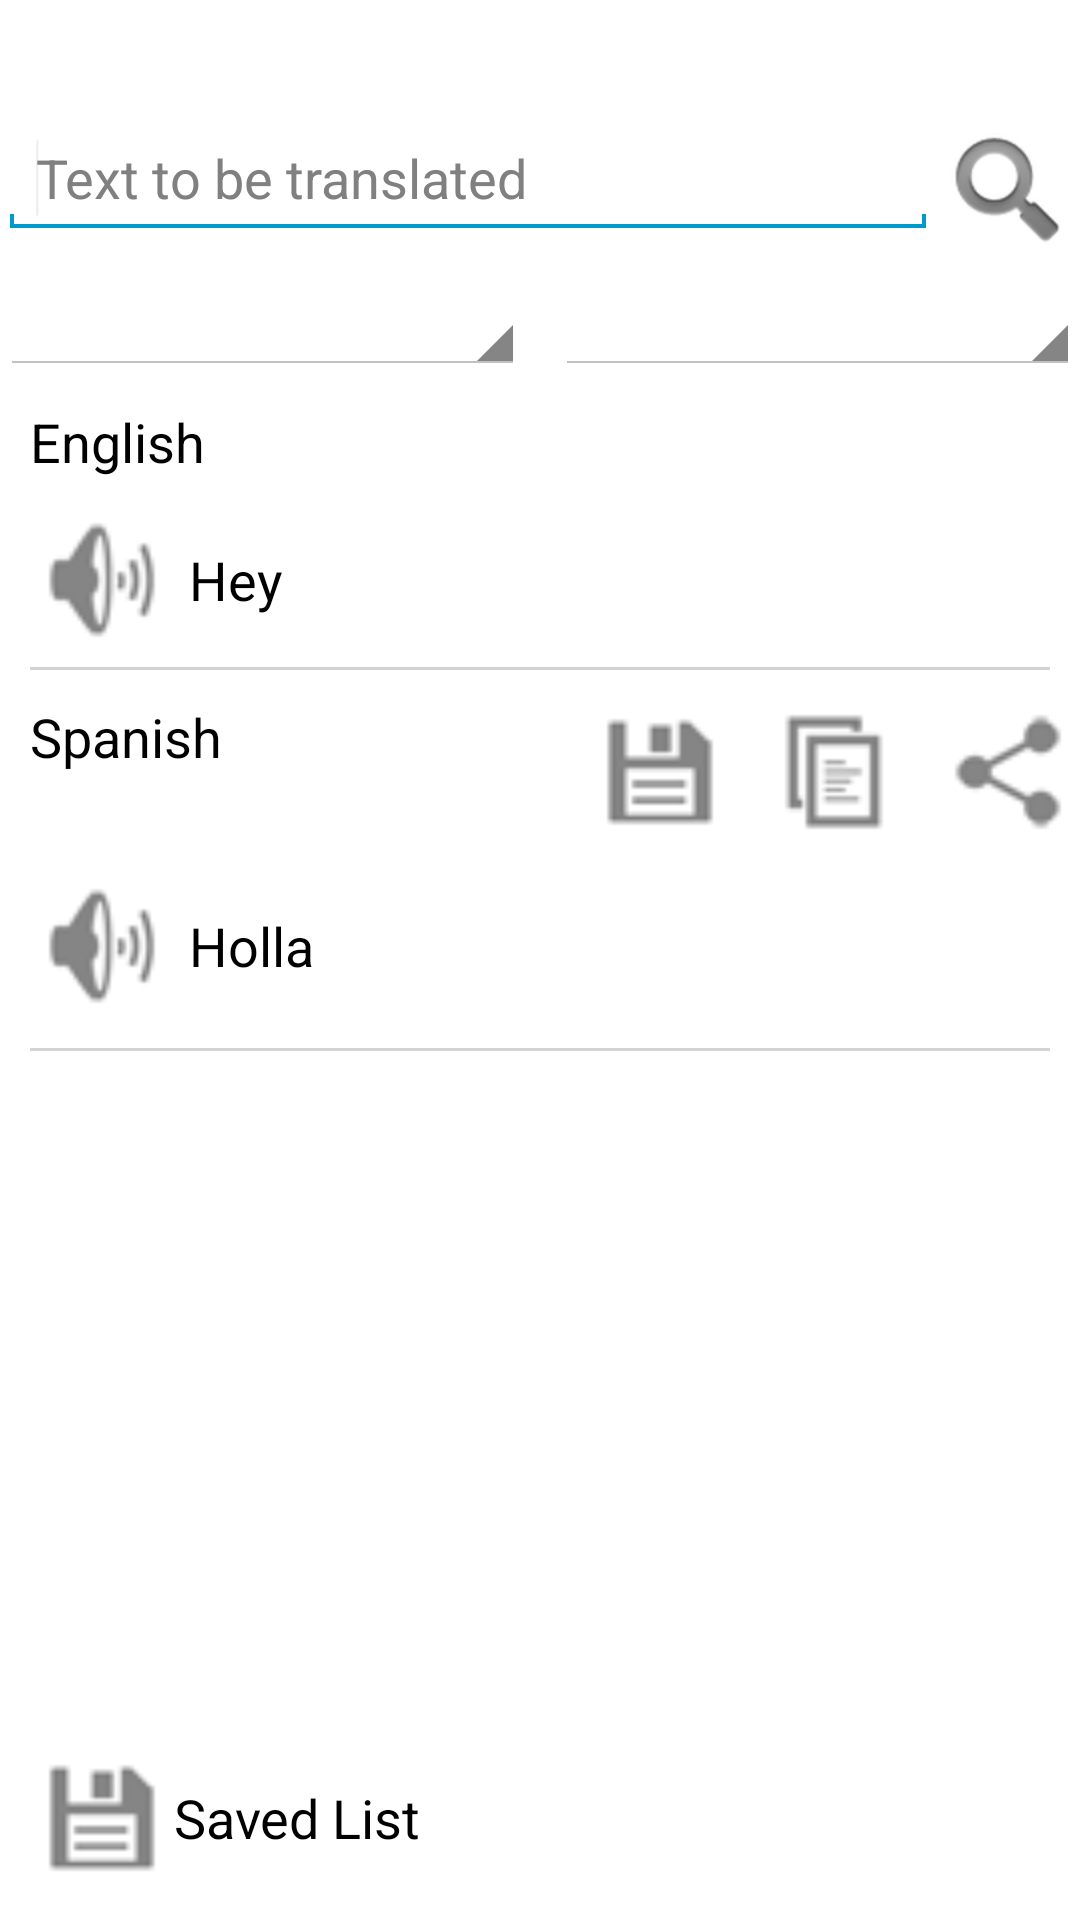

Locate icon controls on the screen. Image size 1080w x 1920h, boxes as [x1=x1, y1=y1, x2=x2, y2=y2].
save: [x1=607, y1=720, x2=713, y2=824]
search category: [x1=955, y1=137, x2=1059, y2=241]
share: [x1=955, y1=716, x2=1061, y2=828]
volume on: [x1=49, y1=524, x2=155, y2=636], [x1=49, y1=890, x2=155, y2=1002]
